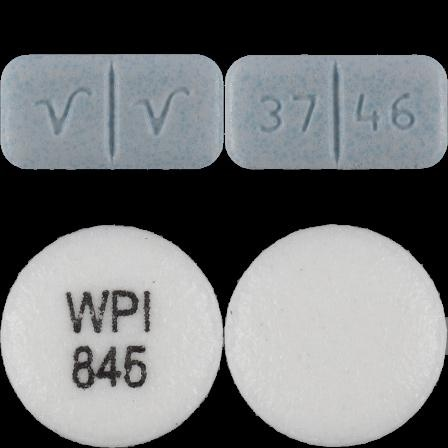61919-720: (0, 0, 224, 224)
